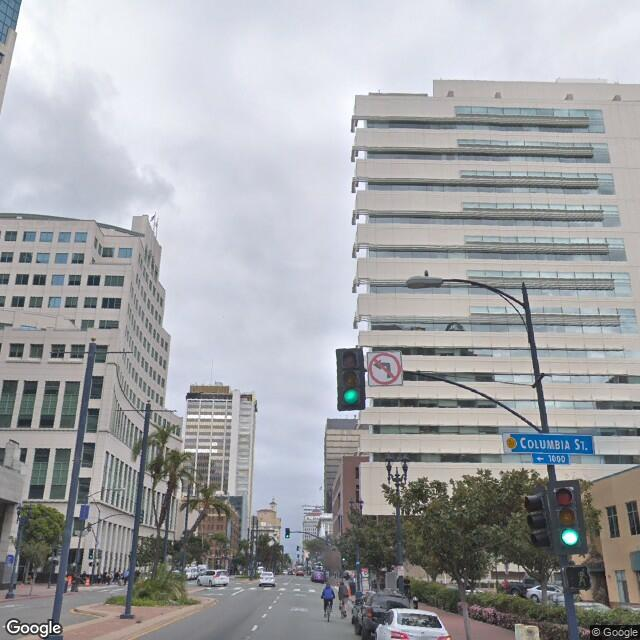window: (62, 375, 78, 432), (623, 503, 639, 535), (32, 458, 46, 482), (102, 274, 123, 287)
